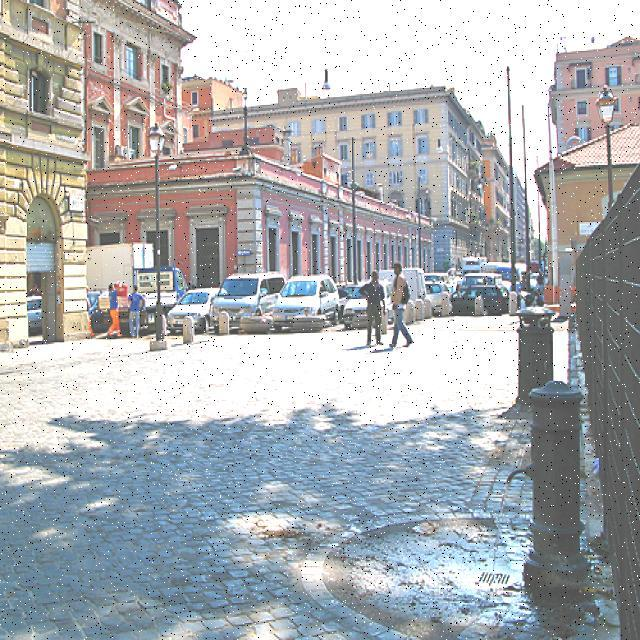fire_hydrant: (503, 375, 590, 595)
